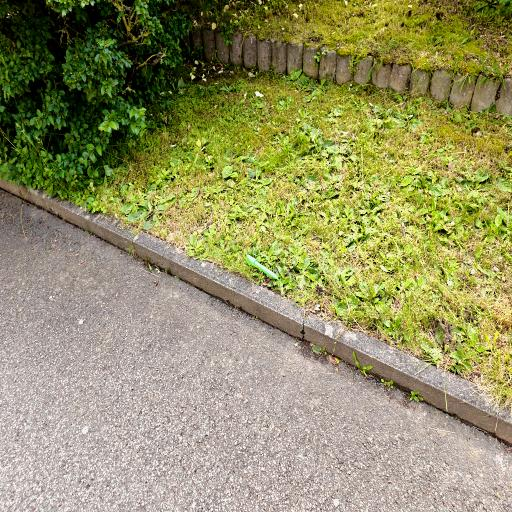Probe-Detection: (246, 255, 279, 280)
